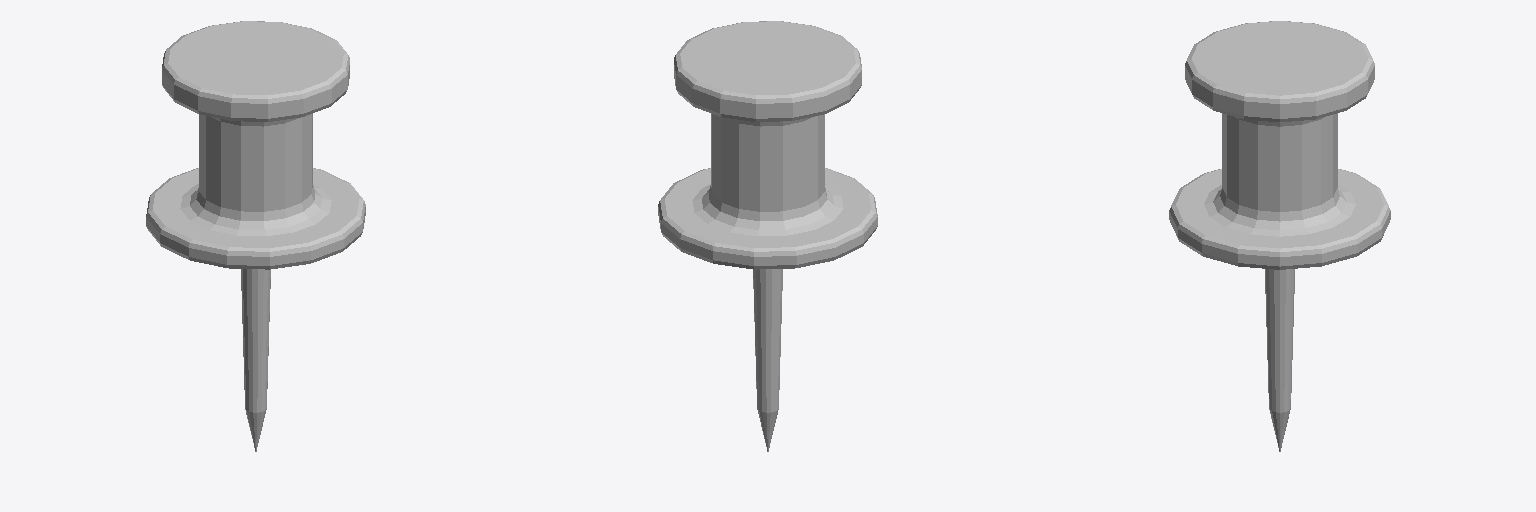
File: needle.obj
3 views of the same model, side by side, from view 1: azimuth 30°, elevation 25°; view 2: azimuth 150°, elevation 25°; view 3: azimuth 270°, elevation 25° (orthographic).
Visible parts, largest first — view 1: Cylinder_Cylinder.012; view 2: Cylinder_Cylinder.012; view 3: Cylinder_Cylinder.012.
Boxes of the visible parts, x1=… form: Cylinder_Cylinder.012: x1=146, y1=21, x2=365, y2=451; Cylinder_Cylinder.012: x1=658, y1=21, x2=877, y2=451; Cylinder_Cylinder.012: x1=1169, y1=21, x2=1390, y2=451.
Bounding box in the file's own units: 2.23 × 4.38 × 2.23.